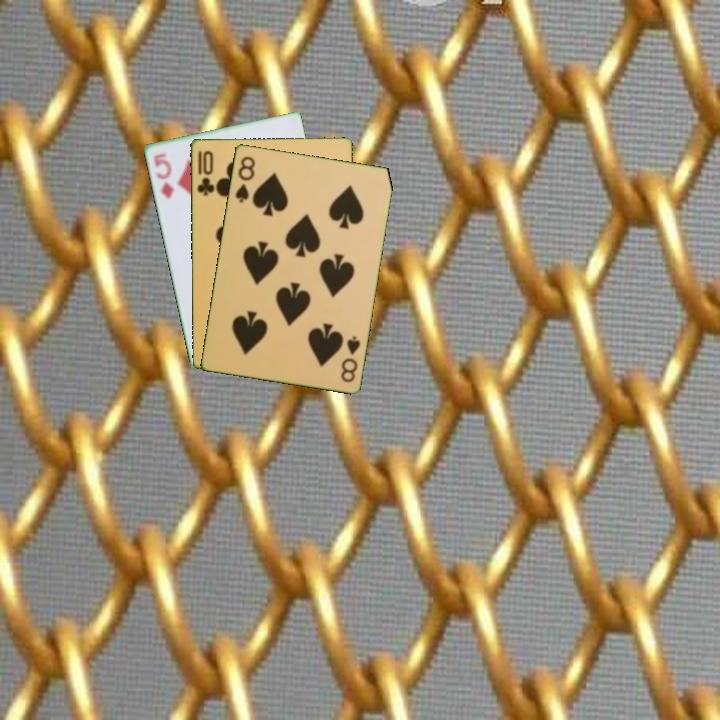10c: (193, 147, 217, 198)
5d: (150, 150, 176, 202)
8s: (231, 152, 258, 205), (337, 332, 363, 385)
